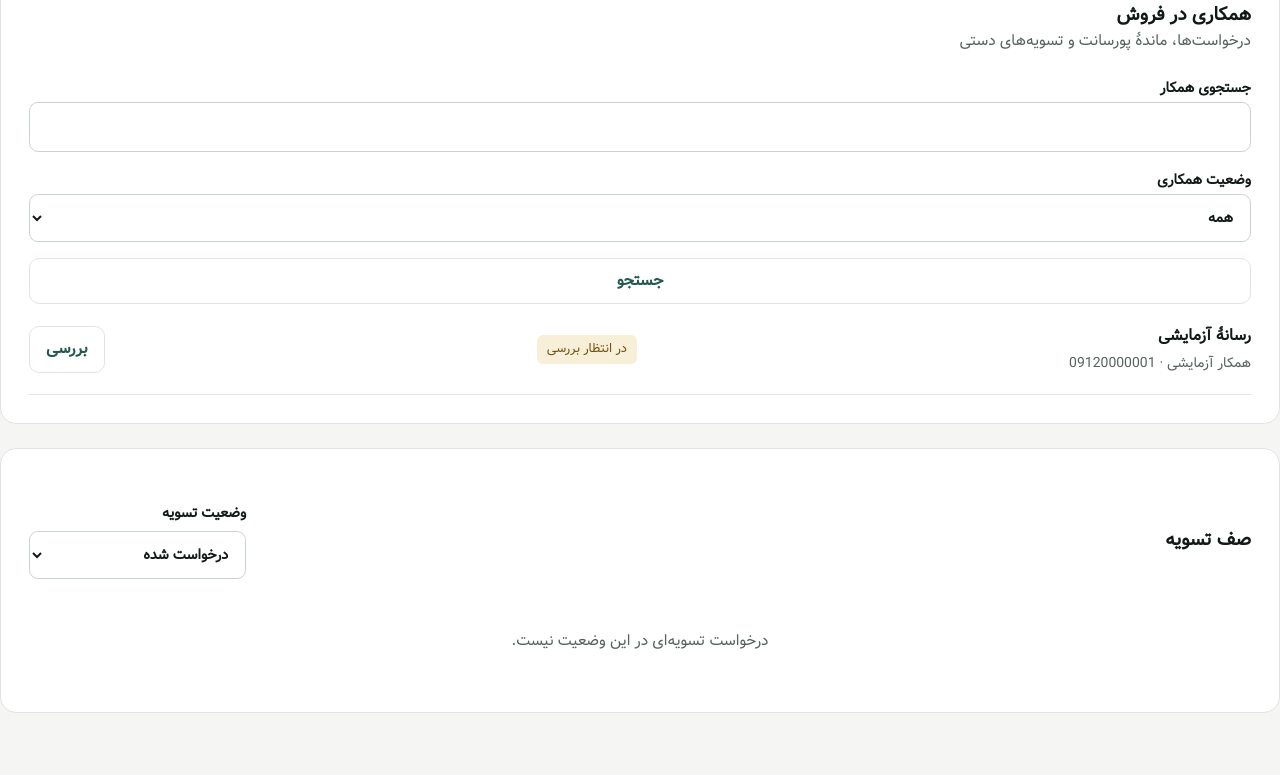
it: approval requires a note and sends only the selected account decision
The image size is (1280, 775).
Later steps or results of the test are not shown.
What coordinates should you click on to do the following:
click the button with aria-label "بررسی رسانهٔ آزمایشی"
I would click on:
 (67, 349)
Its box is [29,326,105,373].
(page scrolled)
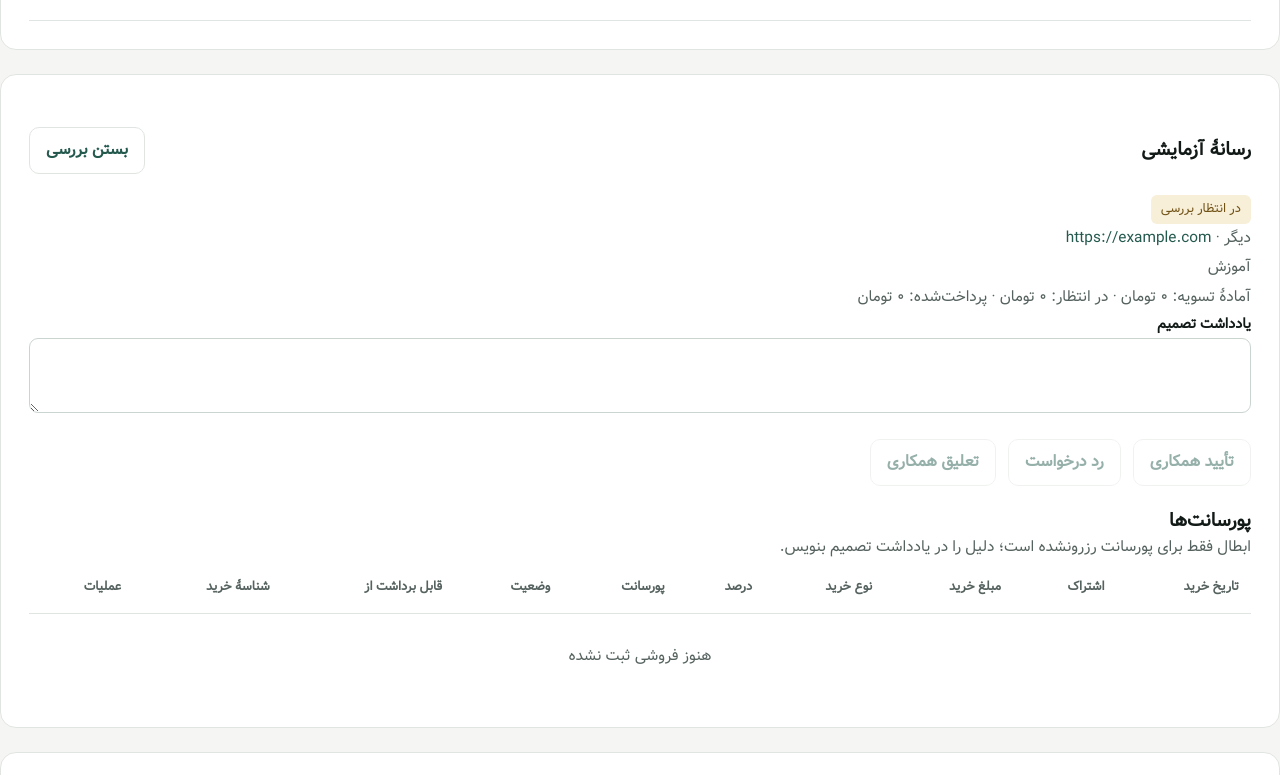
Expected: the button "تأیید همکاری" is disabled, [1133,439,1251,486]
